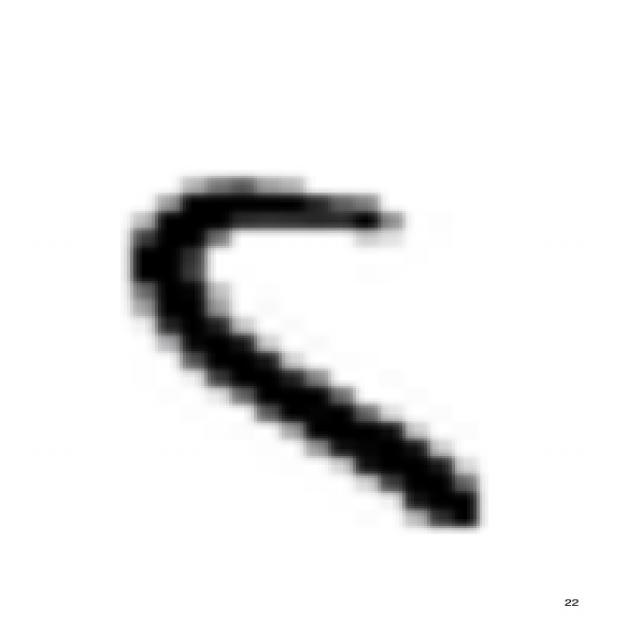2 -two-: (108, 158, 497, 541)
